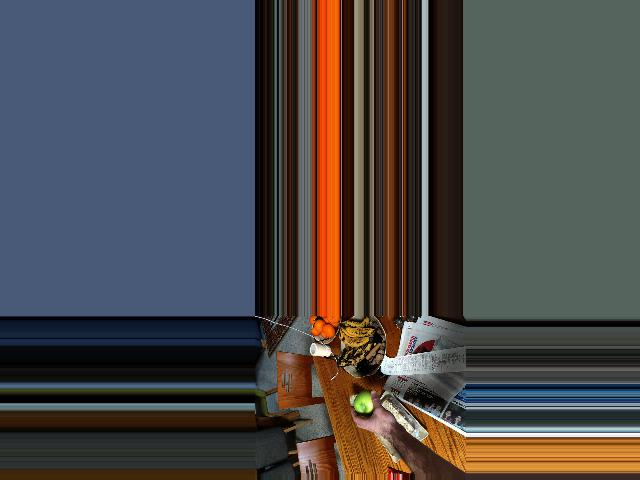apple: (352, 390, 378, 419)
